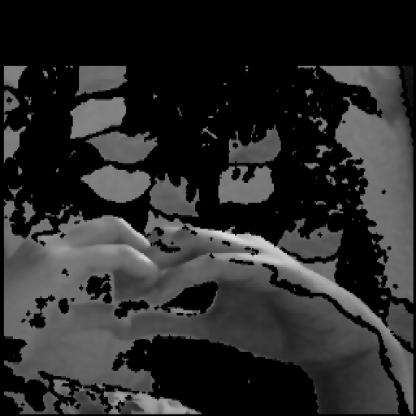heart: (21, 215, 348, 369)
